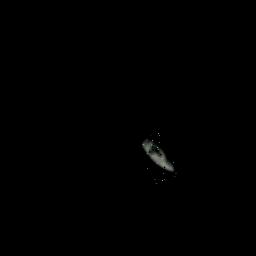boat: (137, 129, 179, 185)
